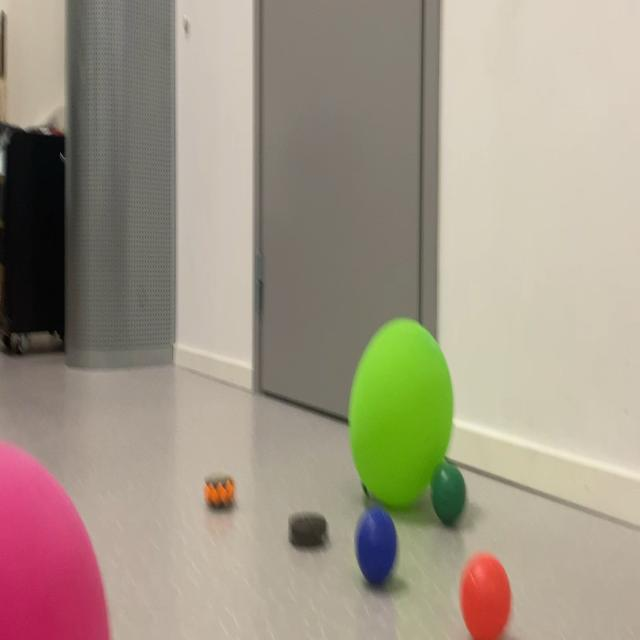7: (442, 539, 528, 640)
green ball: (342, 483, 412, 615)
red ball: (404, 448, 514, 534)
